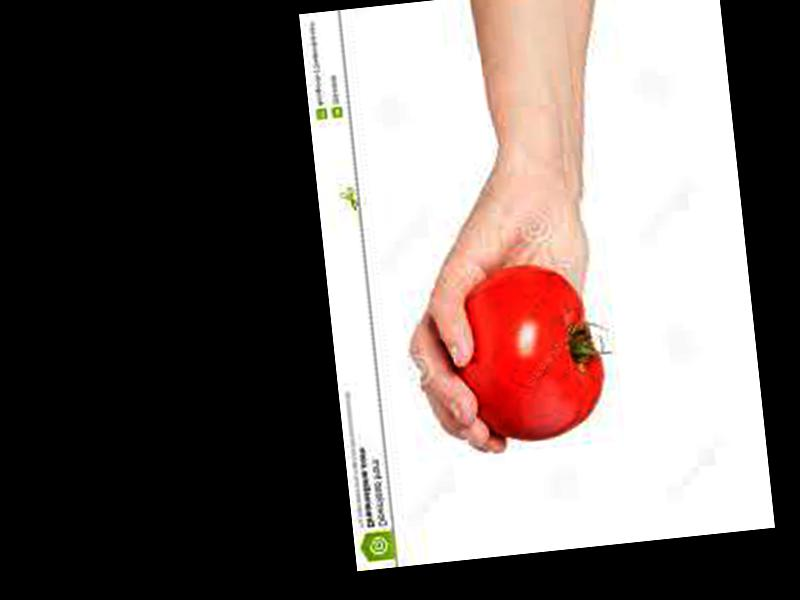Tomato: (445, 256, 611, 448)
